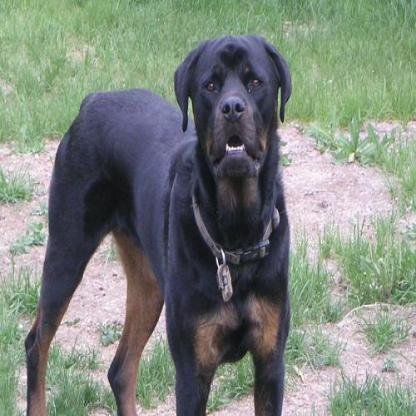Rottweiler: (21, 31, 292, 414)
